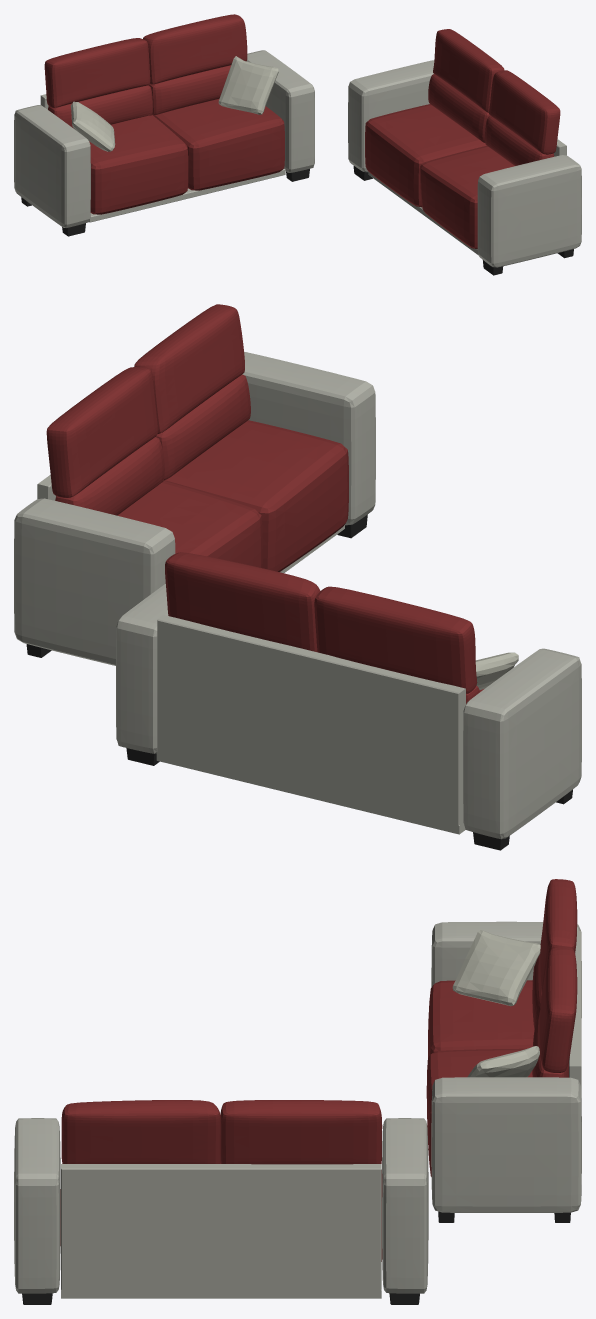
Rendered from simple_sofa.obj.
3 renders of one model, top to bottom at view 1: azimuth 30°, elevation 25°; view 2: azimuth 150°, elevation 25°; view 3: azimuth 270°, elevation 25°, orthographic. The views are drawn at different scales.
Visible parts, largest first — view 1: coj_grandes_Cube.003, coj_grandes.001_Cube.012, base_sofa.001_Cube.011, base_sofa_Cube.002, cojin2_Cube.005, cojin1_Cube.004; view 2: base_sofa_Cube.002, coj_grandes.001_Cube.012, base_sofa.001_Cube.011, coj_grandes_Cube.003, cojin1_Cube.004; view 3: base_sofa.001_Cube.011, base_sofa_Cube.002, coj_grandes.001_Cube.012, coj_grandes_Cube.003, cojin1_Cube.004, cojin2_Cube.005.
Boxes of the visible parts, x1=… form: coj_grandes_Cube.003: x1=44, y1=14, x2=284, y2=214; coj_grandes.001_Cube.012: x1=365, y1=29, x2=560, y2=249; base_sofa.001_Cube.011: x1=348, y1=60, x2=581, y2=267; base_sofa_Cube.002: x1=14, y1=50, x2=314, y2=227; cojin2_Cube.005: x1=218, y1=56, x2=278, y2=114; cojin1_Cube.004: x1=70, y1=101, x2=115, y2=151; base_sofa_Cube.002: x1=116, y1=584, x2=581, y2=839; coj_grandes.001_Cube.012: x1=46, y1=304, x2=348, y2=571; base_sofa.001_Cube.011: x1=14, y1=351, x2=375, y2=665; coj_grandes_Cube.003: x1=165, y1=552, x2=483, y2=703; cojin1_Cube.004: x1=475, y1=652, x2=518, y2=689; base_sofa.001_Cube.011: x1=14, y1=1118, x2=428, y2=1298; base_sofa_Cube.002: x1=431, y1=921, x2=581, y2=1212; coj_grandes.001_Cube.012: x1=60, y1=1100, x2=382, y2=1261; coj_grandes_Cube.003: x1=426, y1=879, x2=577, y2=1176; cojin1_Cube.004: x1=452, y1=930, x2=540, y2=1006; cojin2_Cube.005: x1=467, y1=1046, x2=539, y2=1077.
Bounding box in the file's own units: 3.24 × 1.16 × 3.01.
